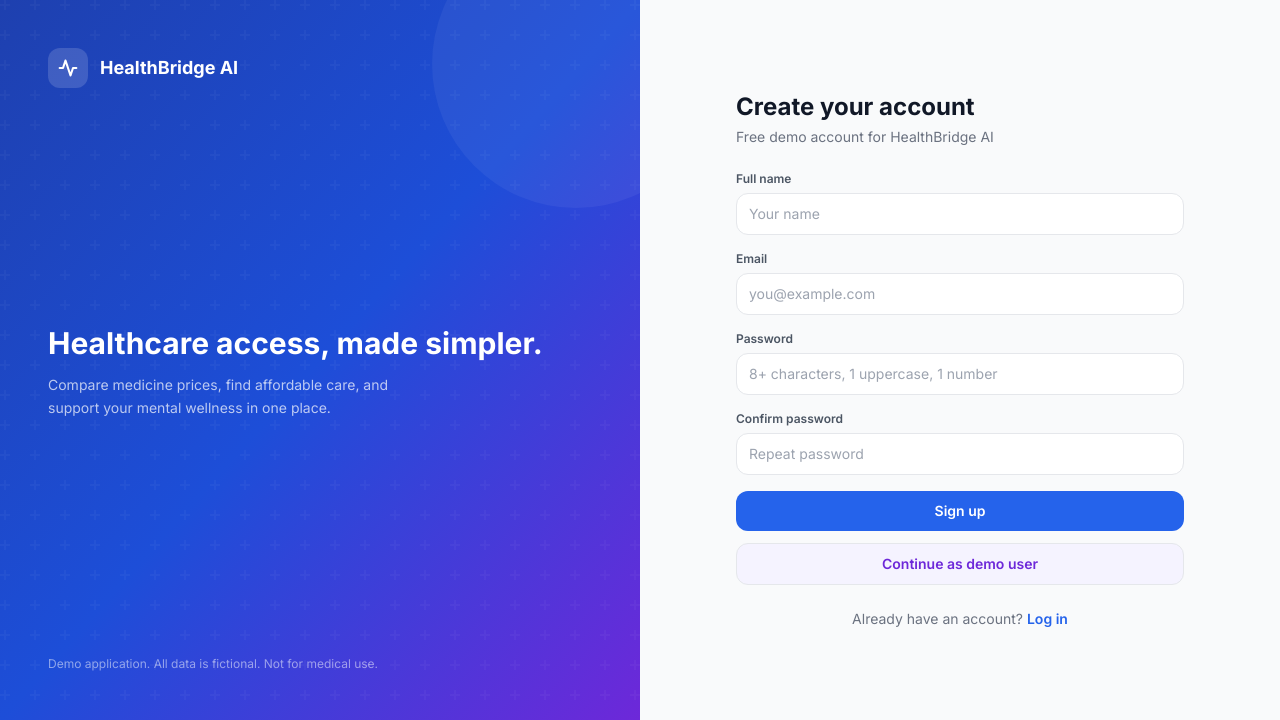
Scenario: Login and sign up › sign up enforces the password rules
Type "Test User" into the field labelled "Full name" at (960, 214), box [736, 193, 1184, 235]
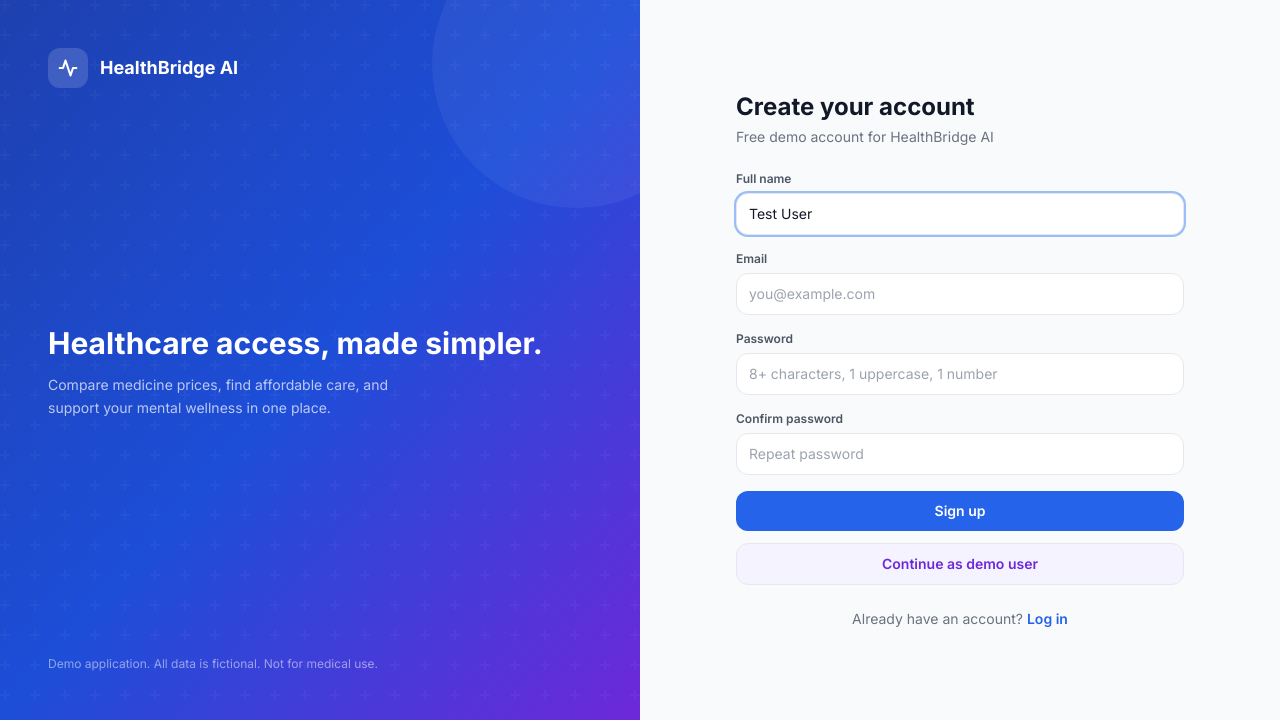
Type "test@example.com" into the field labelled "Email" at (960, 294), box [736, 273, 1184, 315]
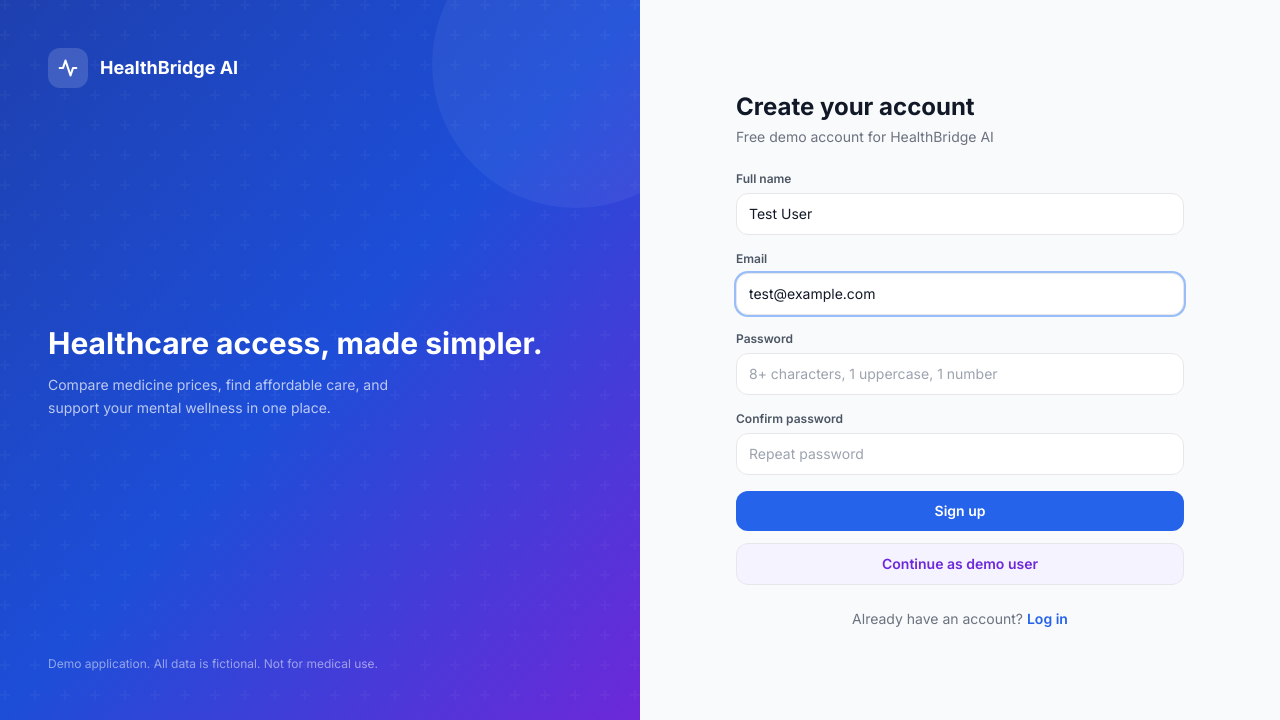
Type "weakpass" into the password field labelled "Password" at (960, 374), box [736, 353, 1184, 395]
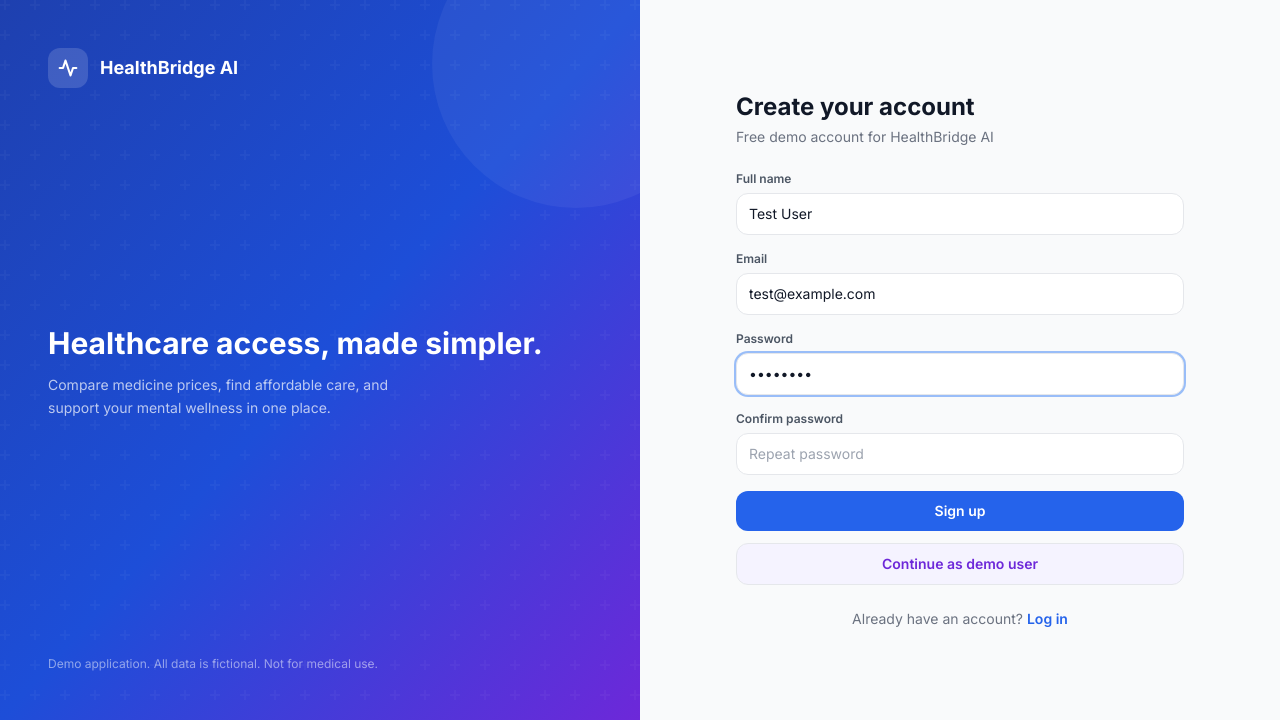
Type "weakpass" into the password field labelled "Confirm password" at (960, 454), box [736, 433, 1184, 475]
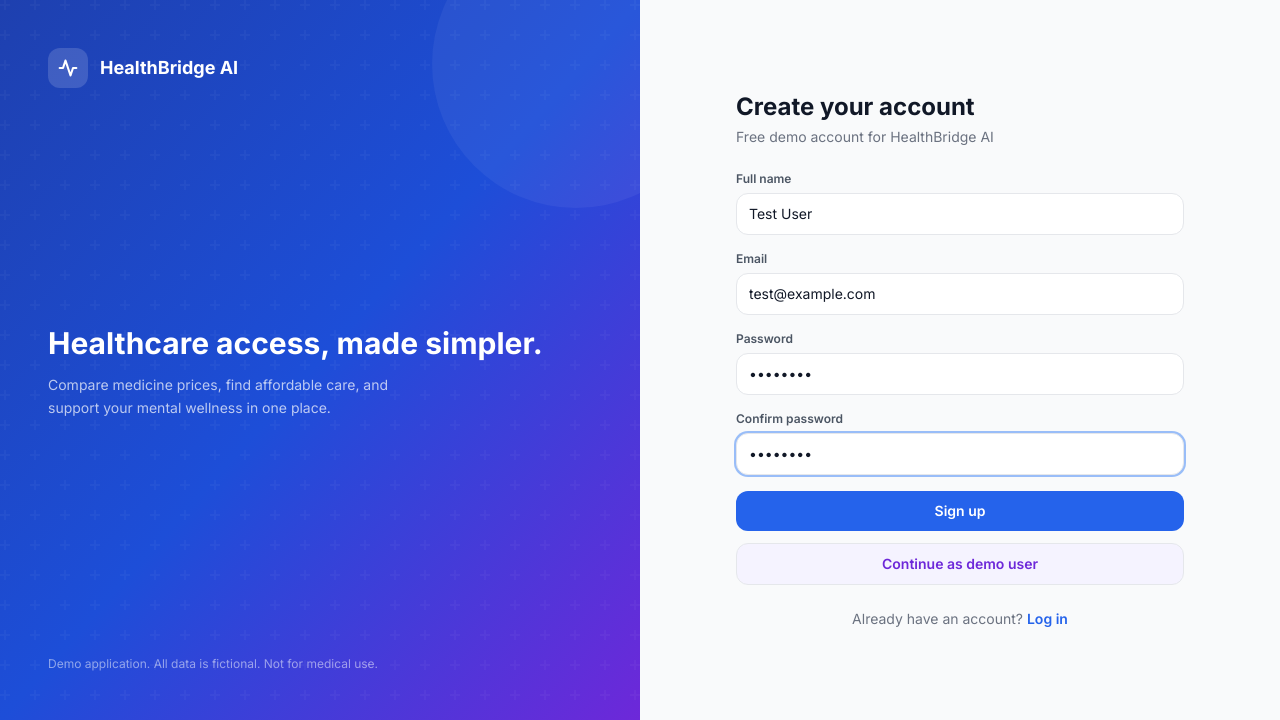
Click the button "Sign up" at (960, 511), box [736, 491, 1184, 531]
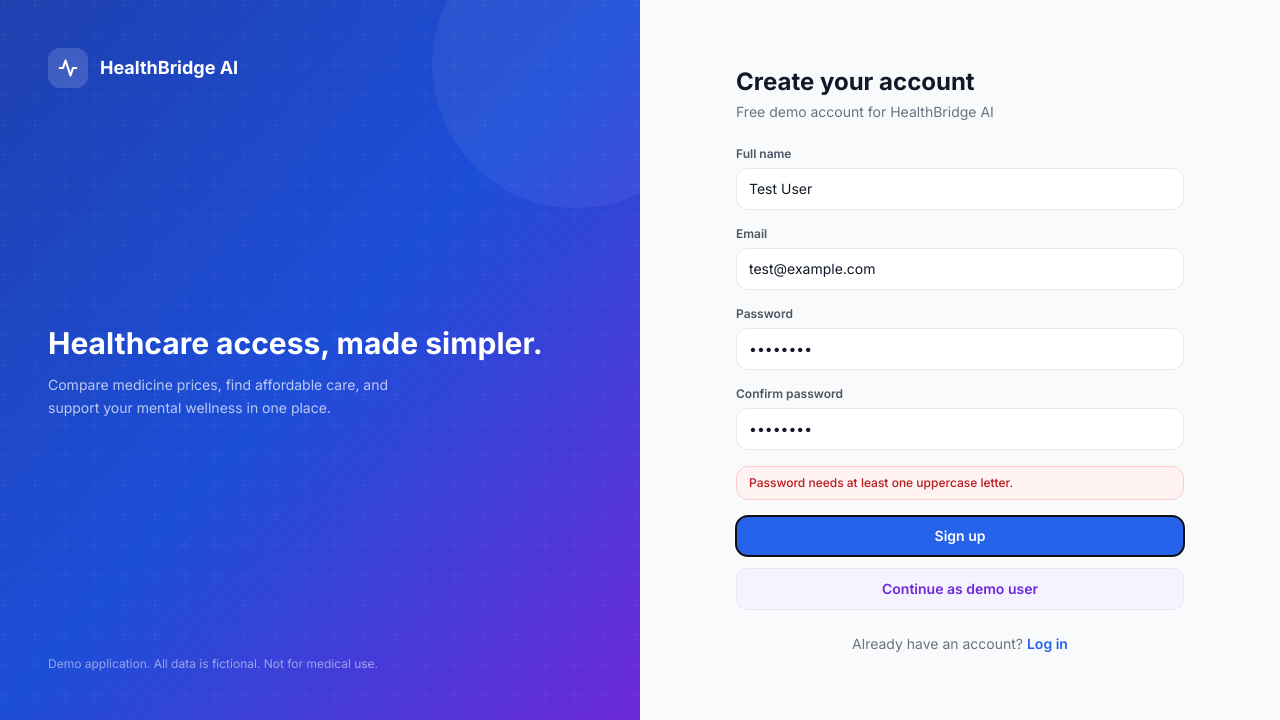
Expected: the message shows "uppercase", [749, 475, 1013, 490]
